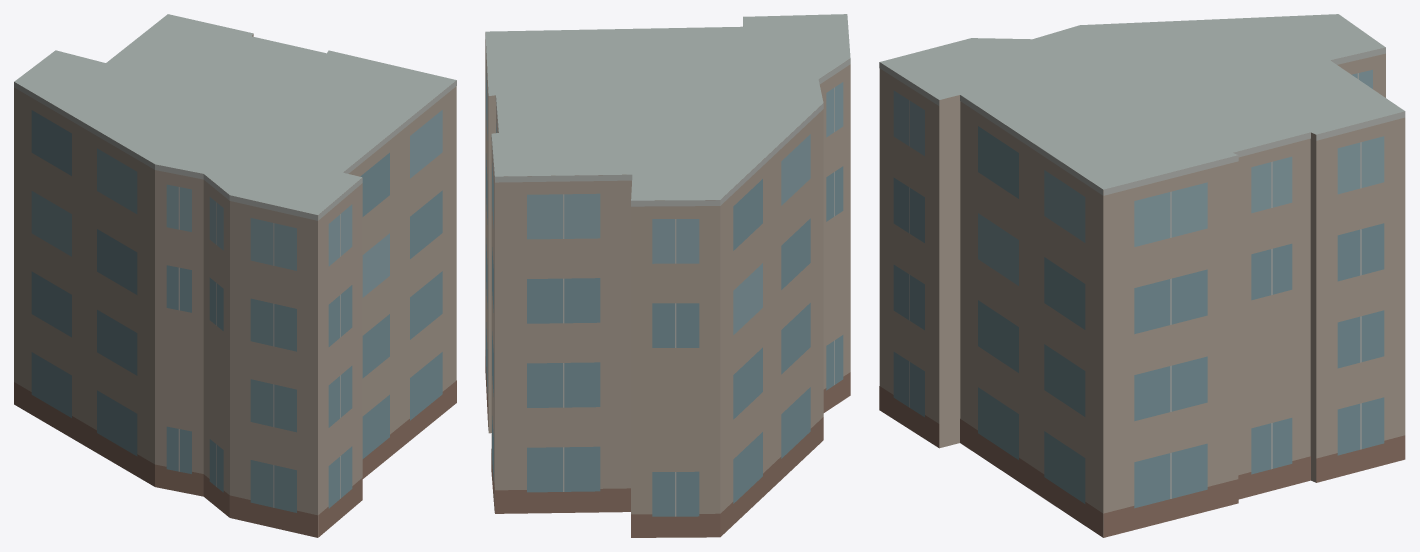
File: survey-upis-32629859.glb
3 renders of one model, left to right at view 1: azimuth 30°, elevation 25°; view 2: azimuth 150°, elevation 25°; view 3: azimuth 270°, elevation 25°, orthographic. The views are drawn at different scales.
Parts seen in each view (by area): view 1: survey-upis-32629859.tmp; view 2: survey-upis-32629859.tmp; view 3: survey-upis-32629859.tmp.
Part boxes in pixels (box(x1,y1,x2,y2)): survey-upis-32629859.tmp: box(14, 14, 456, 537); survey-upis-32629859.tmp: box(485, 14, 850, 537); survey-upis-32629859.tmp: box(879, 14, 1405, 537).
Size of the model in its own units: 14.94 by 13.8 by 18.9.
